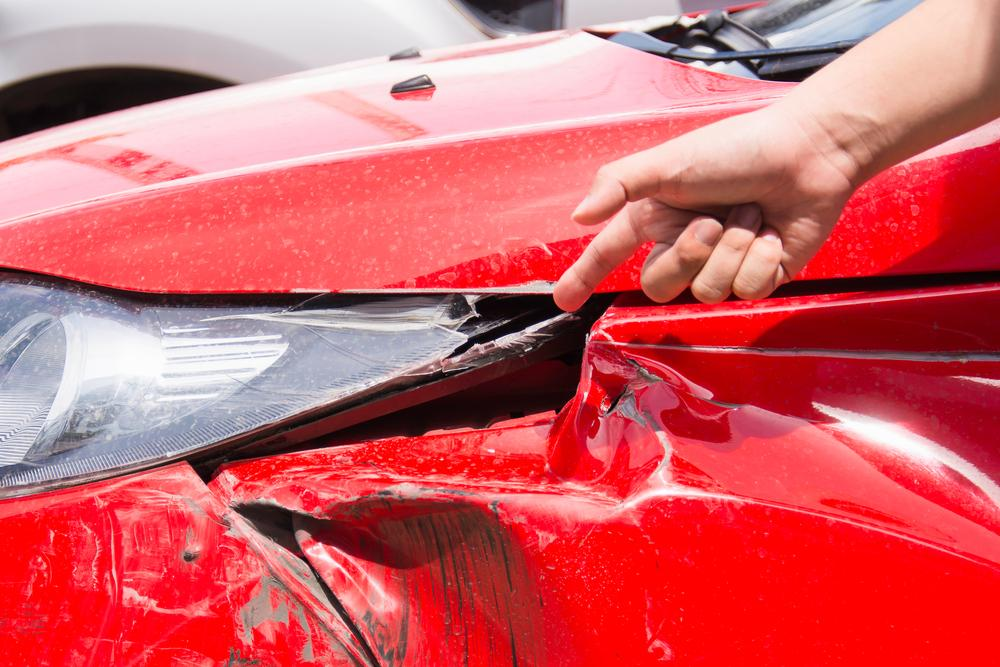dent: (233, 340, 1000, 667)
lamp broken: (0, 271, 574, 500)
scratch: (37, 468, 353, 667)
